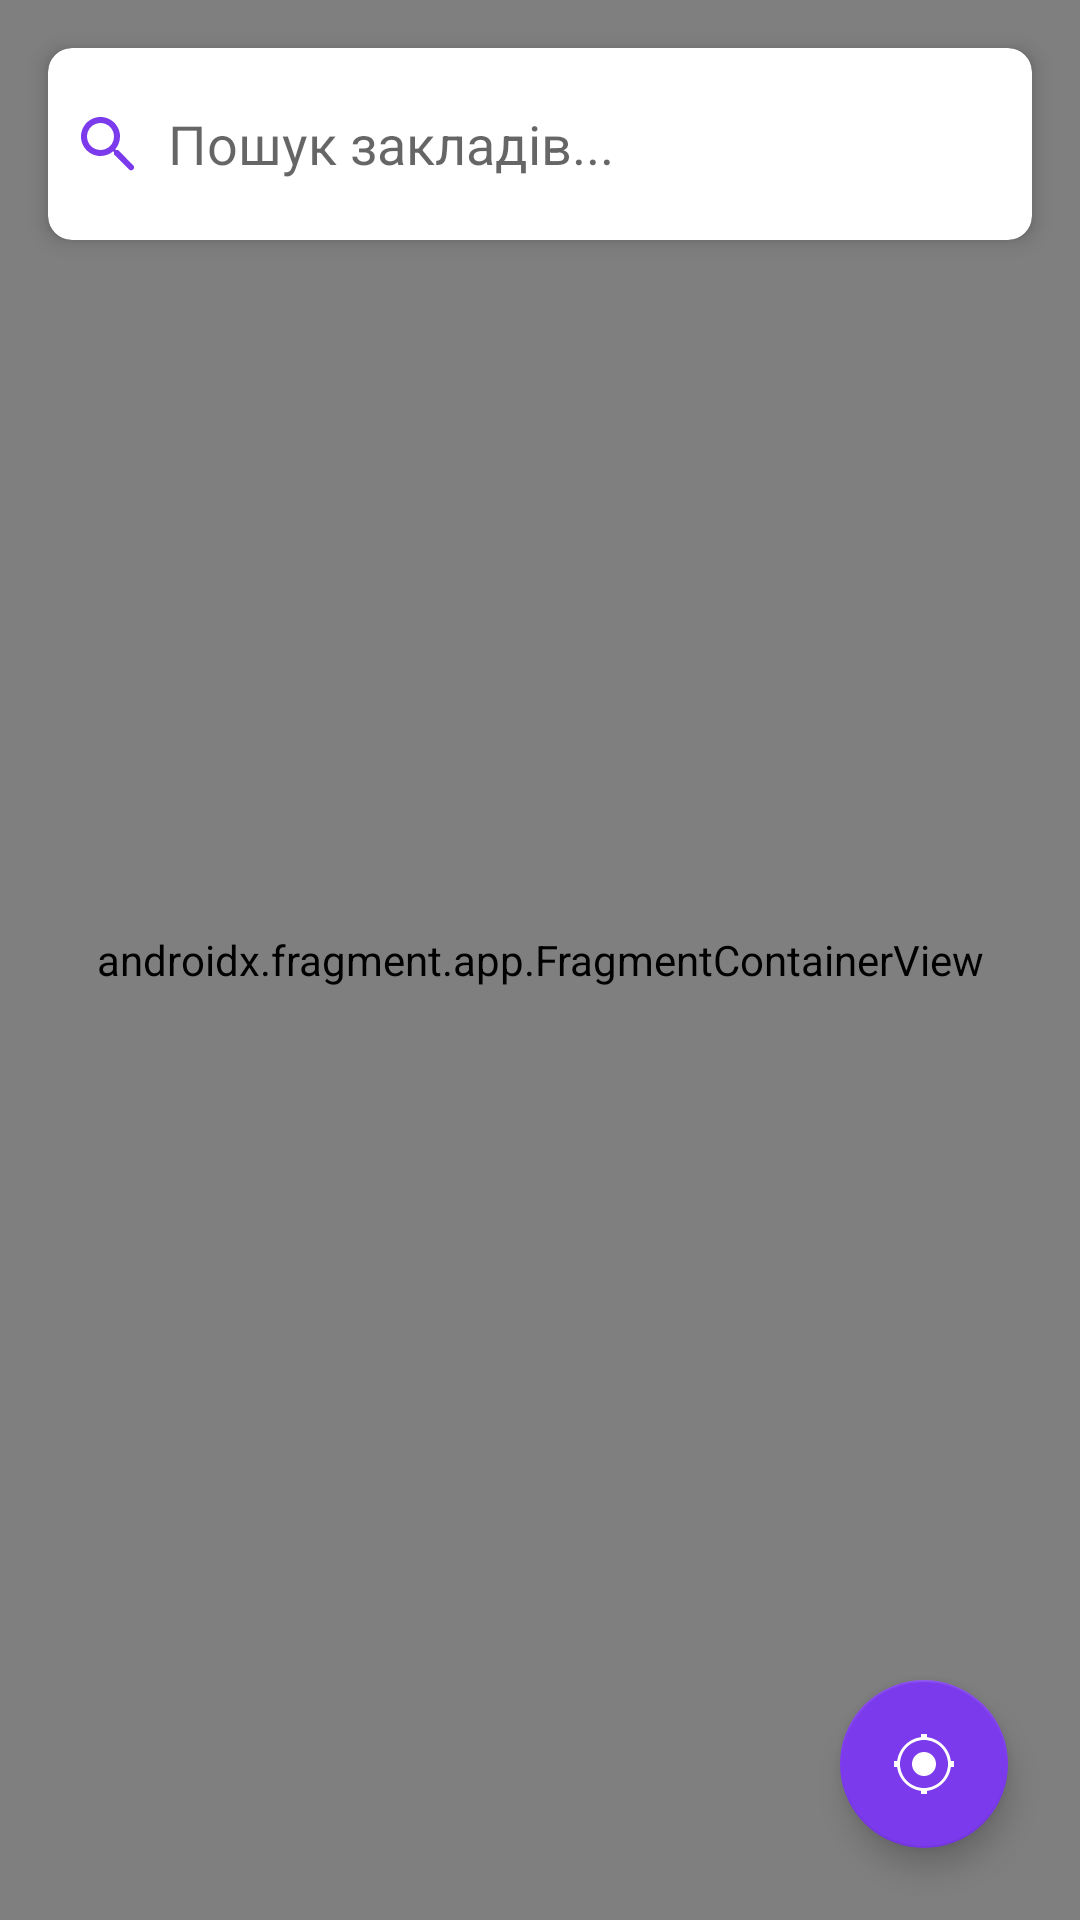

Screen size 1080×1920. Icon name, then its box in pixels as (x1, y1, x2, y2):
Пошук геолокації: (840, 1680, 1008, 1848)
